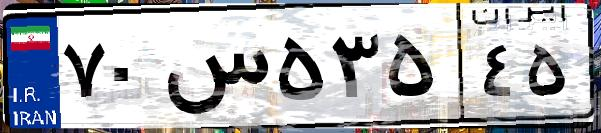0: (110, 28, 158, 98)
3: (330, 28, 385, 110)
4: (475, 38, 525, 113)
5: (270, 28, 330, 110), (385, 28, 445, 110), (525, 38, 570, 115)
7: (57, 26, 110, 100)
س: (158, 20, 270, 120)
